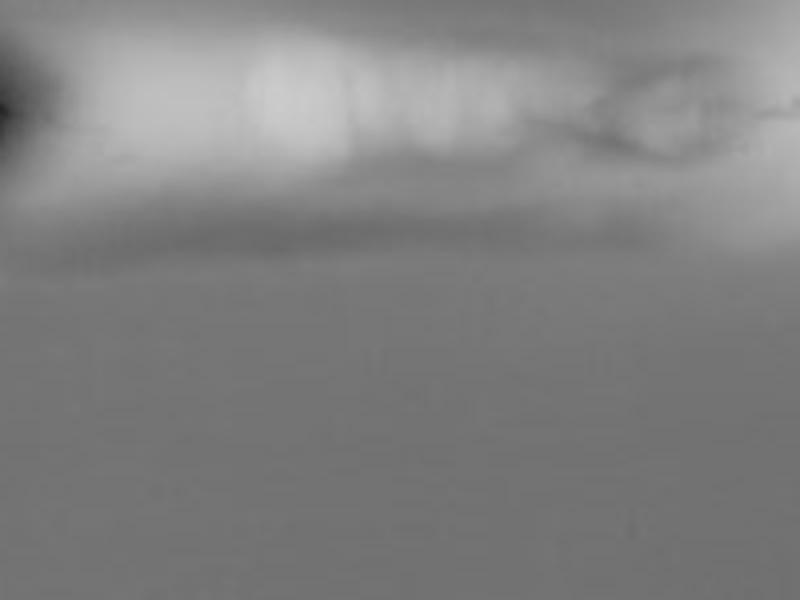defect: (2, 61, 30, 171)
